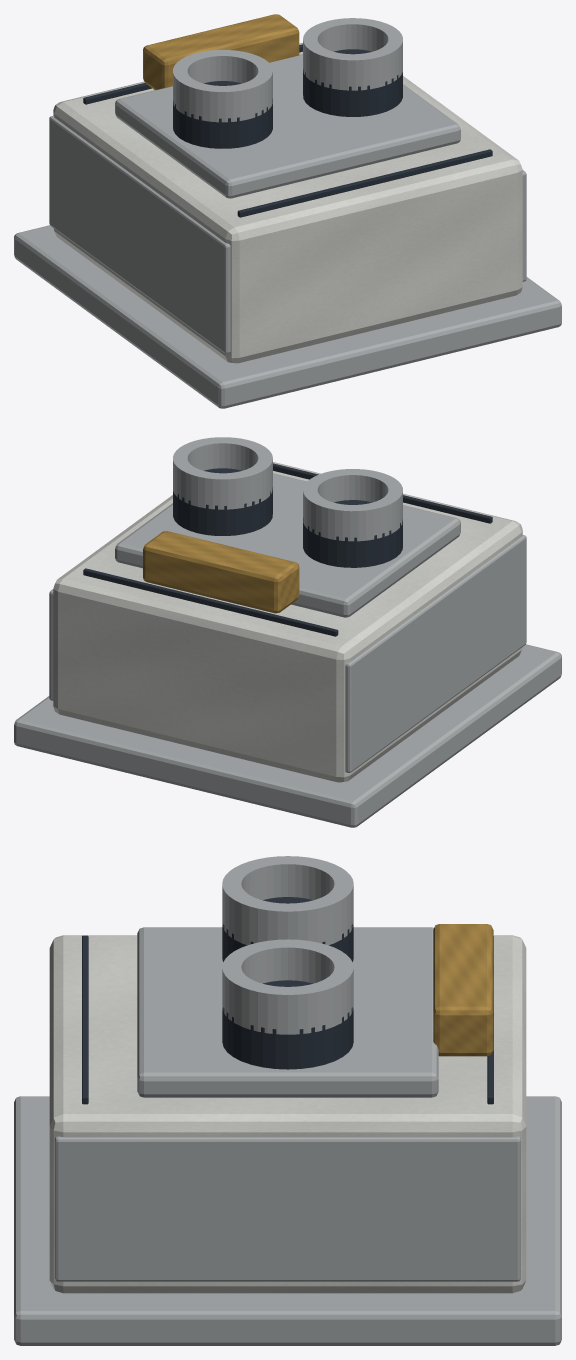
File: telescope_guidance_sensor.glb
3 renders of one model, top to bottom at view 1: azimuth 30°, elevation 25°; view 2: azimuth 150°, elevation 25°; view 3: azimuth 270°, elevation 25°, orthographic. The views are drawn at different scales.
Visible parts, largest first — view 1: Guidance_Electronics, Mount_Base.006, Module_Rail.008, Sensor_Mount, Guide_Baffle.001, Guide_Baffle, SignalProcessor, Guide_OpticHousing, Guide_OpticHousing.001, Module_Seam.008, Module_Seam.009, Module_Rail.009; view 2: Guidance_Electronics, Mount_Base.006, Module_Rail.008, Sensor_Mount, SignalProcessor, Guide_Baffle.001, Guide_Baffle, Guide_OpticHousing, Guide_OpticHousing.001, Module_Seam.009, Module_Seam.008, Module_Rail.009; view 3: Module_Rail.009, Guidance_Electronics, Mount_Base.006, Sensor_Mount, Guide_Baffle.001, Guide_Baffle, SignalProcessor, Guide_OpticHousing.001, Module_Seam.008, Guide_OpticHousing.
Boxes of the visible parts, <box> form: Guidance_Electronics: <box>53,43,522,363</box>; Mount_Base.006: <box>14,225,561,408</box>; Module_Rail.008: <box>49,115,230,353</box>; Sensor_Mount: <box>115,54,460,198</box>; Guide_Baffle.001: <box>303,18,402,90</box>; Guide_Baffle: <box>173,50,272,122</box>; SignalProcessor: <box>143,14,299,90</box>; Guide_OpticHousing: <box>173,98,272,148</box>; Guide_OpticHousing.001: <box>303,68,402,116</box>; Module_Seam.008: <box>237,149,492,217</box>; Module_Seam.009: <box>83,44,302,104</box>; Module_Rail.009: <box>522,170,526,281</box>; Guidance_Electronics: <box>53,462,522,782</box>; Mount_Base.006: <box>14,644,561,827</box>; Module_Rail.008: <box>345,534,526,772</box>; Sensor_Mount: <box>115,473,460,617</box>; SignalProcessor: <box>143,531,299,613</box>; Guide_Baffle.001: <box>173,437,272,509</box>; Guide_Baffle: <box>303,469,402,541</box>; Guide_OpticHousing: <box>303,517,402,567</box>; Guide_OpticHousing.001: <box>173,487,272,535</box>; Module_Seam.009: <box>83,568,338,636</box>; Module_Seam.008: <box>273,463,492,523</box>; Module_Rail.009: <box>49,589,53,700</box>; Module_Rail.009: <box>55,1136,520,1281</box>; Guidance_Electronics: <box>49,935,526,1293</box>; Mount_Base.006: <box>14,1096,561,1345</box>; Sensor_Mount: <box>137,927,438,1097</box>; Guide_Baffle.001: <box>222,939,353,1034</box>; Guide_Baffle: <box>222,856,353,945</box>; SignalProcessor: <box>433,924,493,1056</box>; Guide_OpticHousing.001: <box>222,1007,353,1069</box>; Module_Seam.008: <box>82,935,88,1104</box>; Guide_OpticHousing: <box>222,924,353,961</box>.
Bounding box in the file's own units: 0.95 × 0.63 × 1.
4 materials, 2 textured.
